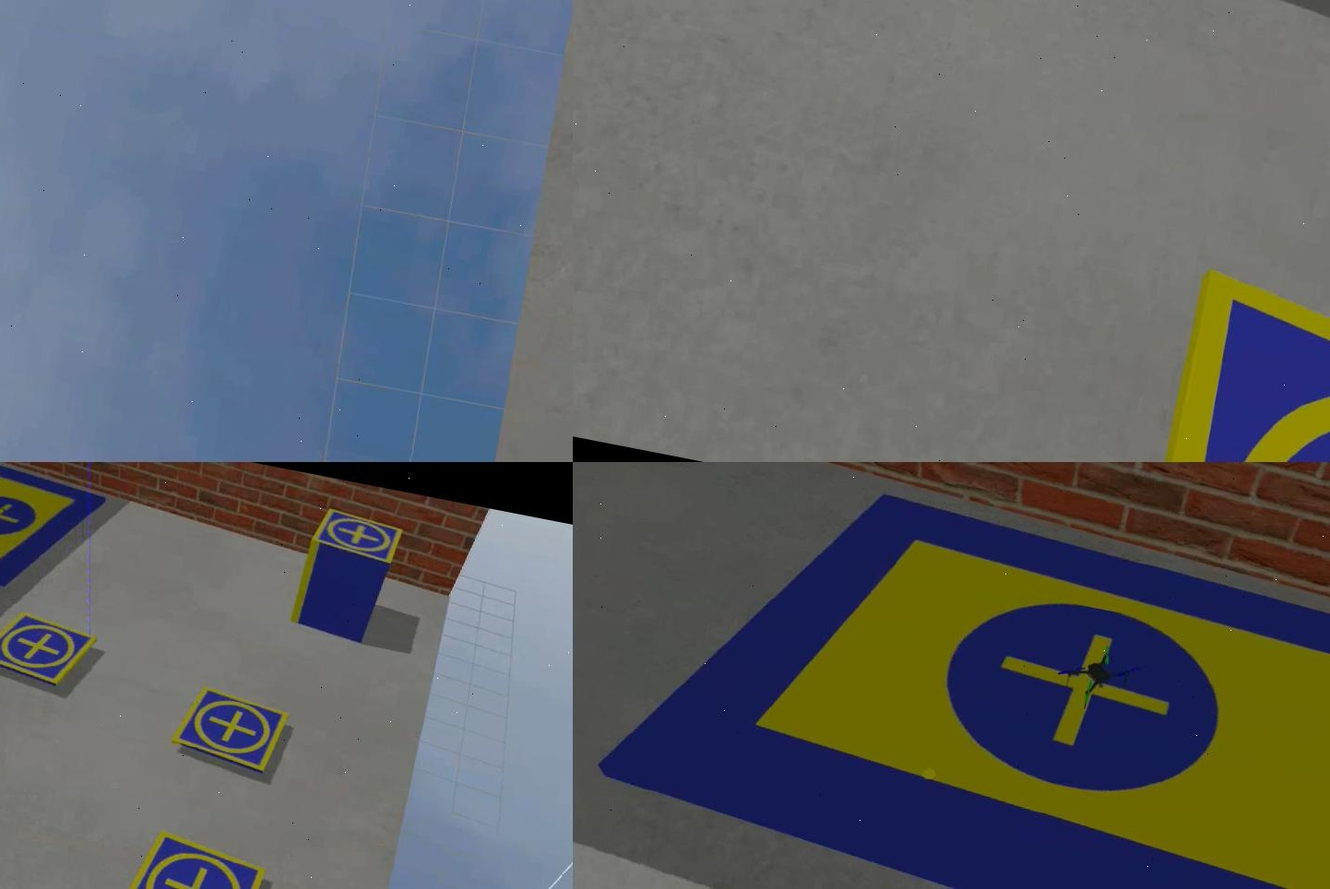large_base: (578, 462, 1328, 889), (0, 462, 110, 610)
small_base: (1144, 269, 1328, 462), (166, 684, 291, 783), (112, 827, 267, 889), (0, 609, 95, 697), (306, 505, 405, 567)
